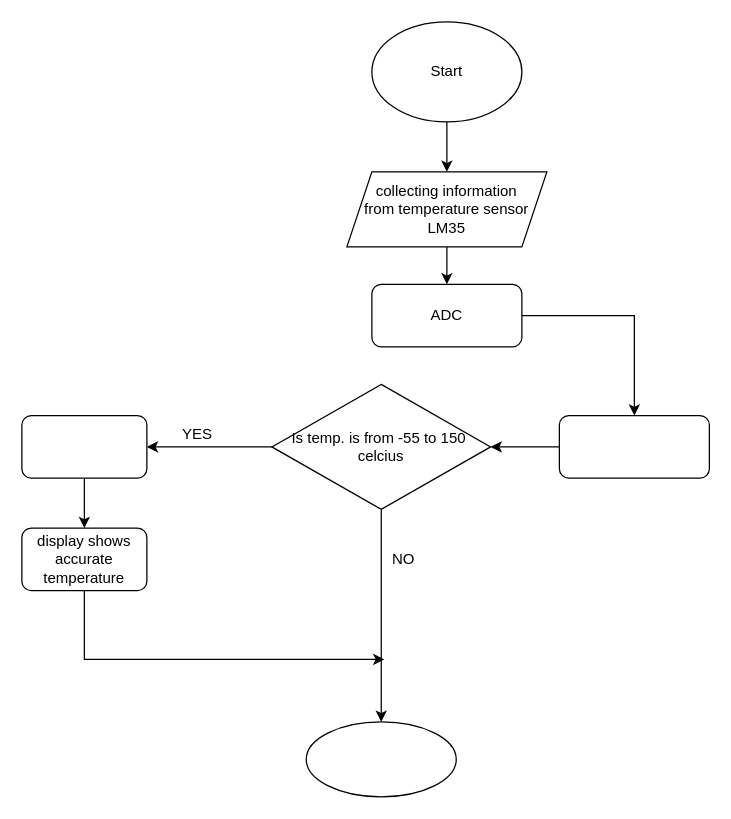
Image size: 731x819. Some labels were removed from this diagram. Here are the shapes that lost their labels. From the top down, the box of each, then its label:
(21, 414, 147, 478): Turn On LCD interface
(558, 414, 709, 478): ATMEGA 16
(305, 721, 456, 797): END
